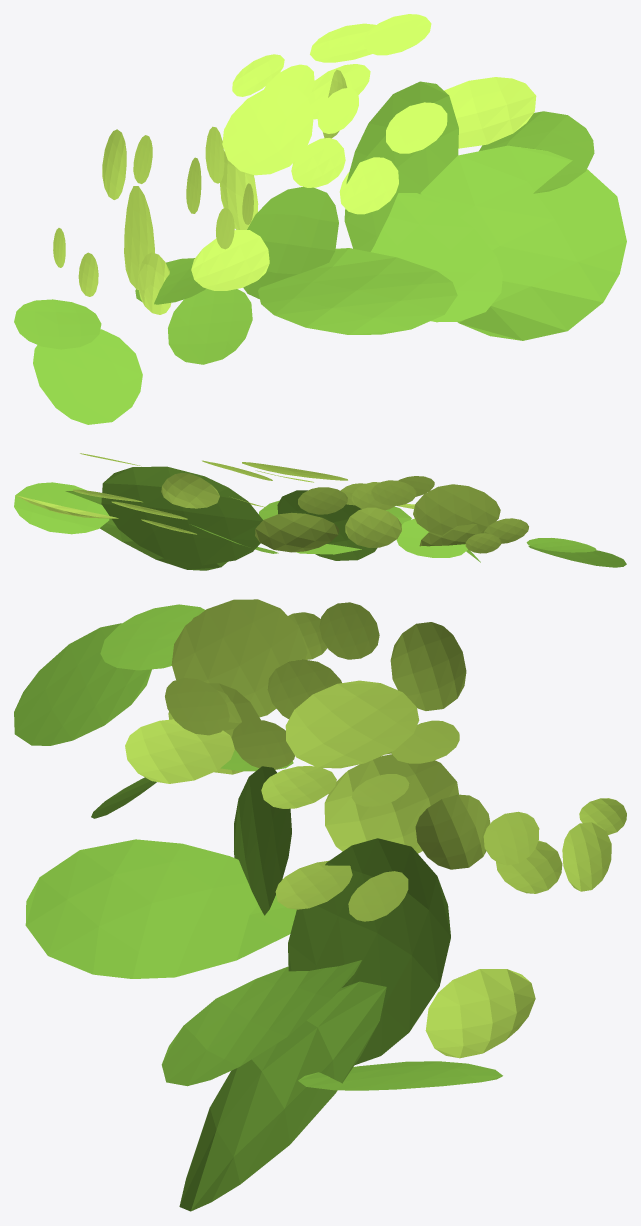
Rendered from Moss on small stone.003.fbx.
The picture shows the model from 3 angles, top to bottom: view 1: azimuth 30°, elevation 25°; view 2: azimuth 150°, elevation 25°; view 3: azimuth 270°, elevation 25°; orthographic projection. The views are drawn at different scales.
Parts seen in each view (by area): view 1: Moss on small stone.003_Baked; view 2: Moss on small stone.003_Baked; view 3: Moss on small stone.003_Baked.
Part boxes in pixels (x1,y1,x2,y2): Moss on small stone.003_Baked: (14,14,626,424); Moss on small stone.003_Baked: (14,453,626,570); Moss on small stone.003_Baked: (14,599,626,1211).
Bounding box in the file's own units: 10.71 × 3.71 × 5.94.
Materials: 1 (1 with a texture image).
